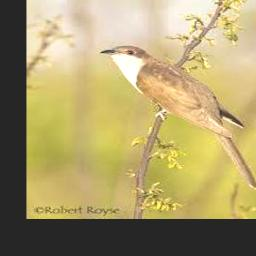Cuckoo: (99, 45, 256, 190)
